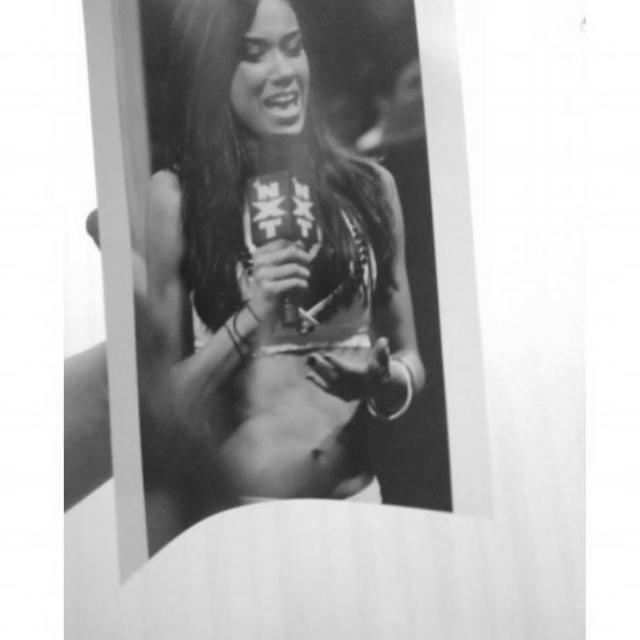fake: (70, 0, 498, 588)
